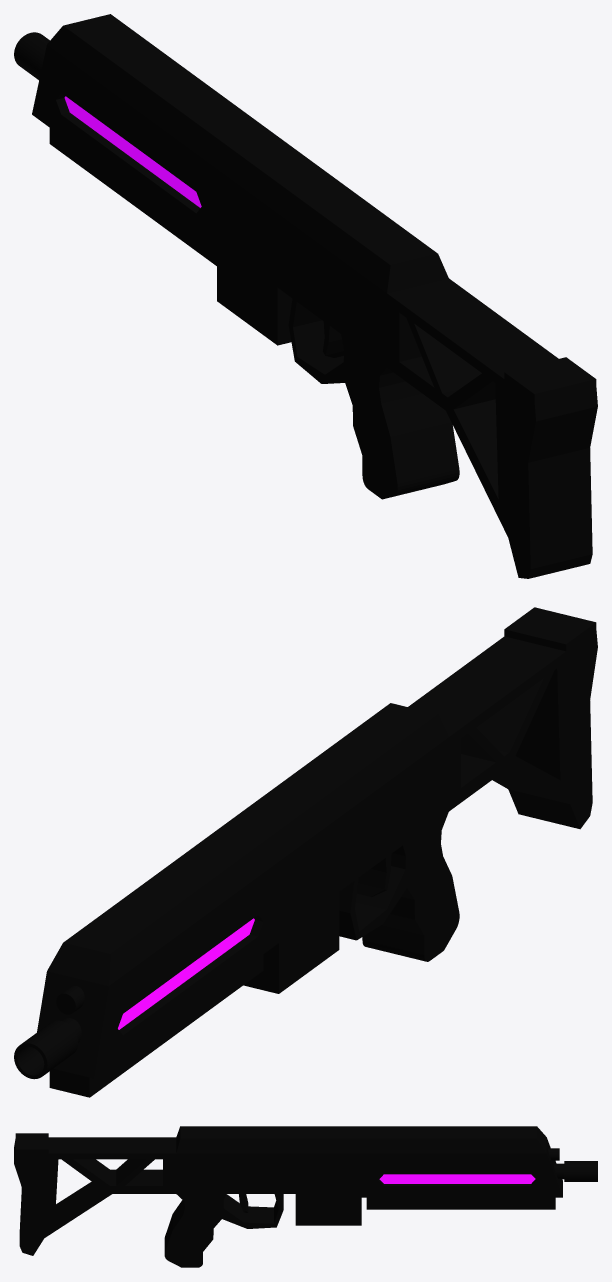
Rendered from TPGUNblender.FBX.
3 renders of one model, top to bottom at view 1: azimuth 30°, elevation 25°; view 2: azimuth 150°, elevation 25°; view 3: azimuth 270°, elevation 25°, orthographic. The views are drawn at different scales.
Visible parts, largest first — view 1: TPGUNblender; view 2: TPGUNblender; view 3: TPGUNblender.
Part boxes in pixels (left/top/right/bottom): TPGUNblender: left=14, top=14, right=597, bottom=578; TPGUNblender: left=14, top=607, right=597, bottom=1097; TPGUNblender: left=14, top=1126, right=597, bottom=1267.
Size of what is drawn, in the model's own units: 25 by 375 by 90.16.
